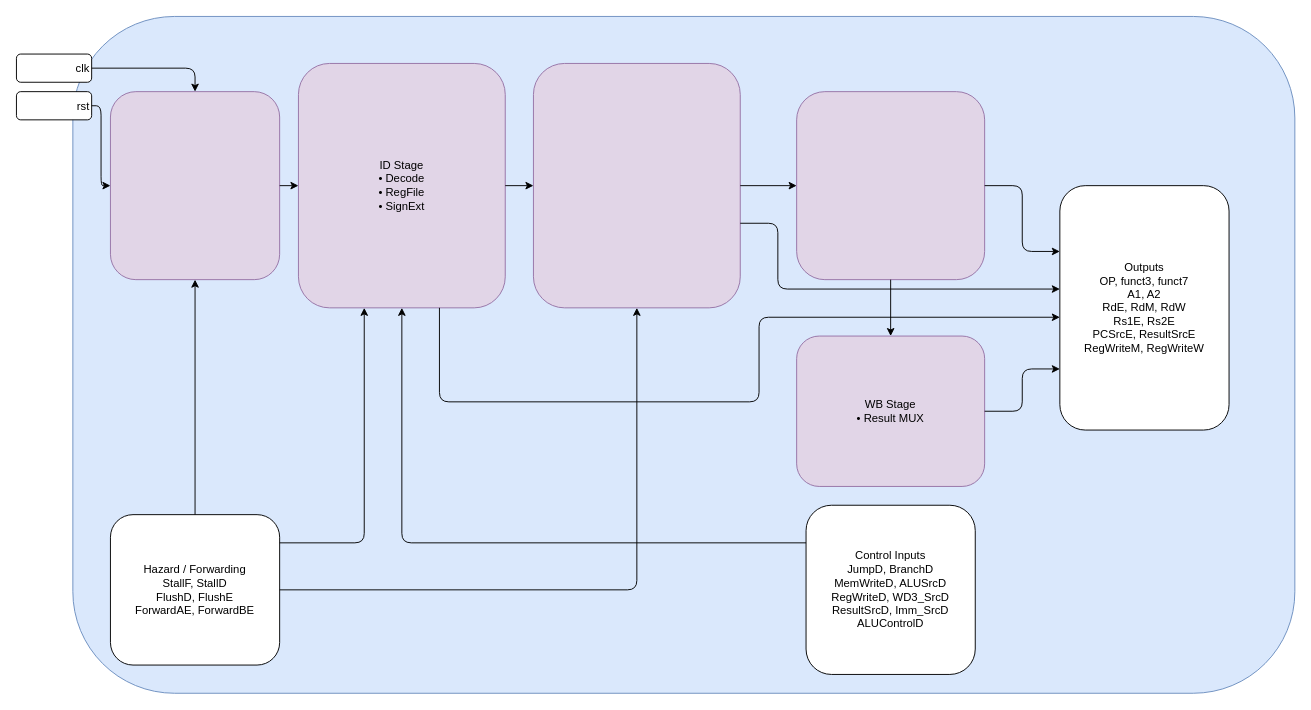
Some shapes in this 1311 by 710 pixel diagram are drawn without their labels. Here are the shapes that lost their labels. From the top down, the centre of each, then its label:
At pixel 195 185: "IF Stage • PC • Instr Mem".
At pixel 636 185: "EX Stage • ALU • Forwarding • Branch".
At pixel 890 185: "MEM Stage • Data Mem".
